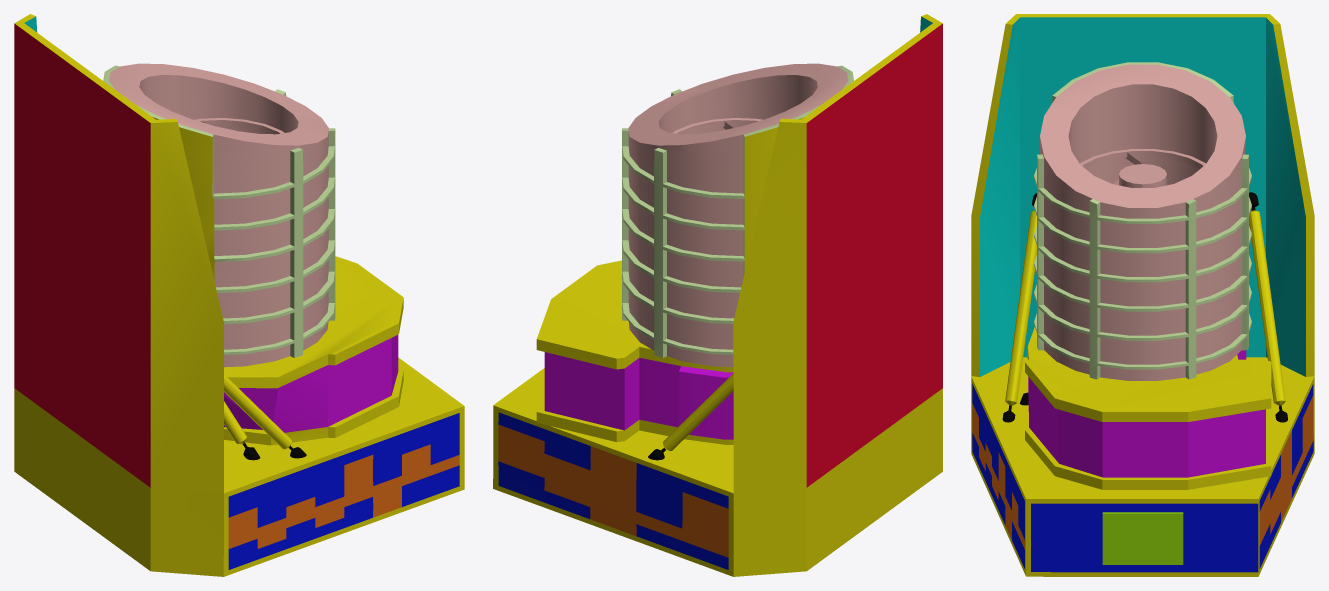
File: euclid.fbx
3 views of the same model, side by side, from view 1: azimuth 30°, elevation 25°; view 2: azimuth 150°, elevation 25°; view 3: azimuth 270°, elevation 25° (orthographic). The views are drawn at different scales.
Visible parts, largest first — view 1: euclid; view 2: euclid; view 3: euclid.
Boxes of the visible parts, x1,y1,x2,y2 form: euclid: (14, 14, 464, 576); euclid: (493, 14, 942, 576); euclid: (971, 14, 1314, 576).
Bounding box in the file's own units: 4.04 × 5.36 × 4.
